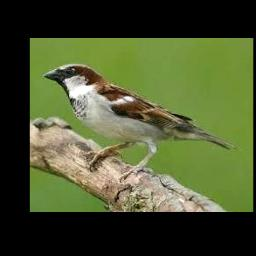Sparrow: (44, 63, 239, 181)
